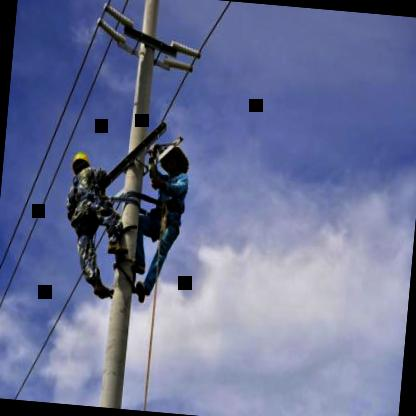helmet: (68, 148, 94, 180)
